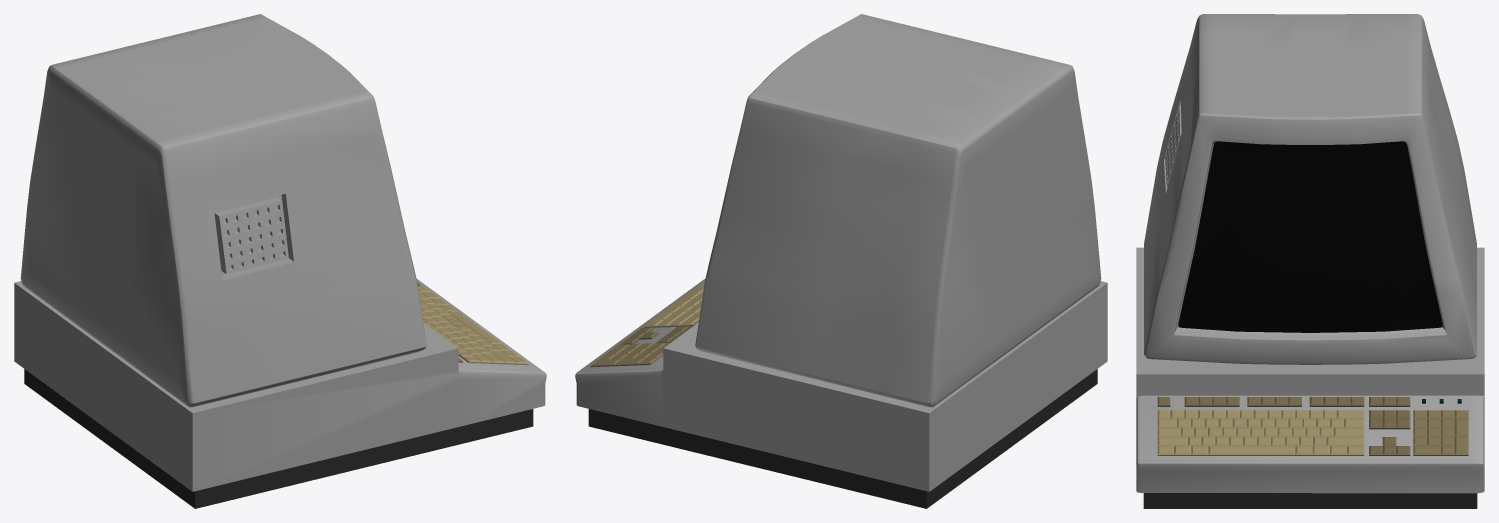
The model's file is monitor-05.glb.
3 renders of one model, left to right at view 1: azimuth 30°, elevation 25°; view 2: azimuth 150°, elevation 25°; view 3: azimuth 270°, elevation 25°, orthographic. The views are drawn at different scales.
Parts seen in each view (by area): view 1: Mesh_Monitor_05; view 2: Mesh_Monitor_05; view 3: Mesh_Monitor_05.
Boxes of the visible parts, x1=… form: Mesh_Monitor_05: x1=14, y1=14, x2=546, y2=508; Mesh_Monitor_05: x1=575, y1=14, x2=1107, y2=508; Mesh_Monitor_05: x1=1136, y1=14, x2=1484, y2=508.
Size of the model in its own units: 0.6903 by 0.6333 by 0.5993.
1 material, 1 textured.
